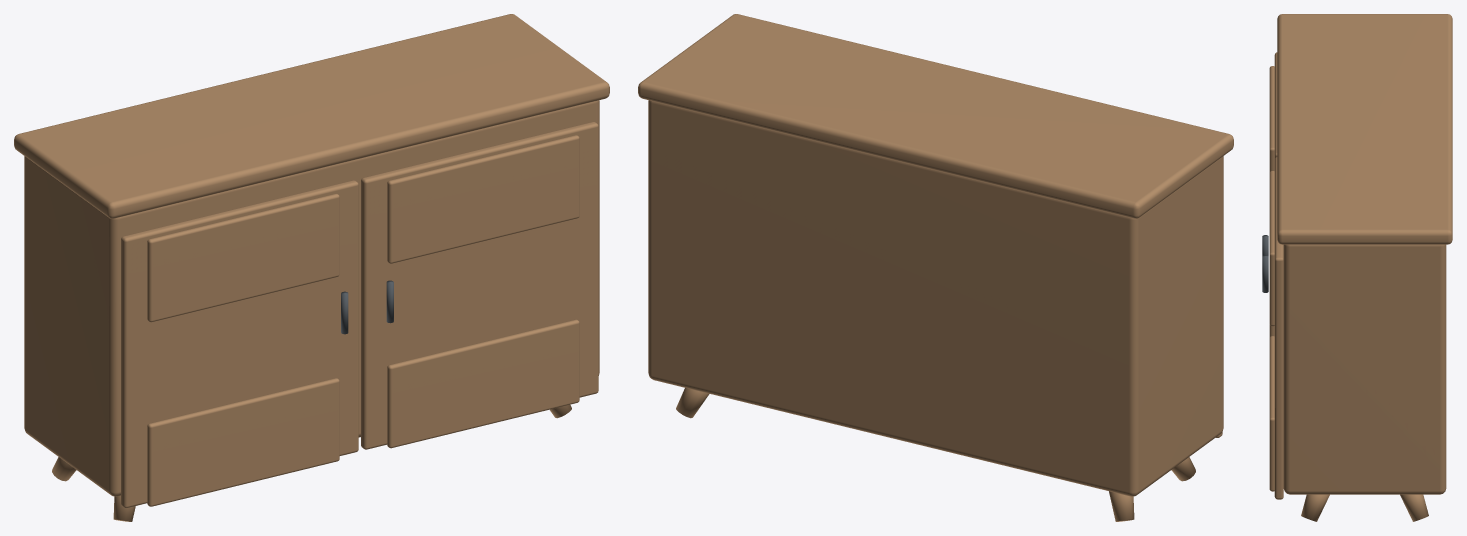
File: atelier-buffet.glb
3 renders of one model, left to right at view 1: azimuth 30°, elevation 25°; view 2: azimuth 150°, elevation 25°; view 3: azimuth 270°, elevation 25°, orthographic. The views are drawn at different scales.
Visible parts, largest first — view 1: legs.088, metal.032; view 2: legs.088; view 3: legs.088, metal.032.
Boxes of the visible parts, x1,y1,x2,y2 form: legs.088: [14, 14, 609, 521]; metal.032: [341, 280, 393, 334]; legs.088: [638, 14, 1233, 521]; legs.088: [1269, 14, 1452, 521]; metal.032: [1262, 235, 1268, 292].
Size of the model in its own units: 1.44 by 0.9293 by 0.5265.
